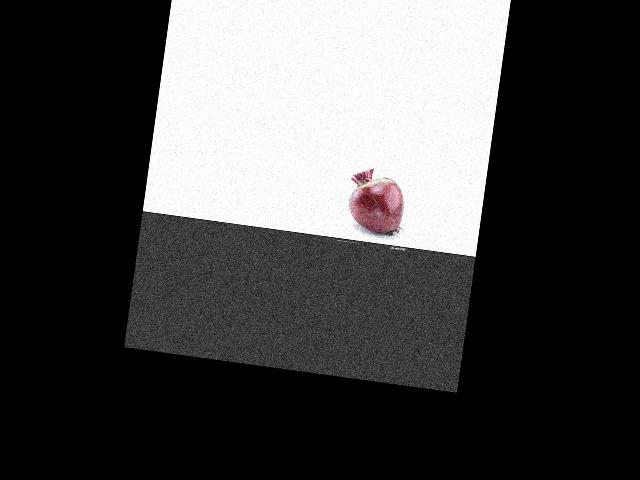beet: (344, 166, 408, 235)
